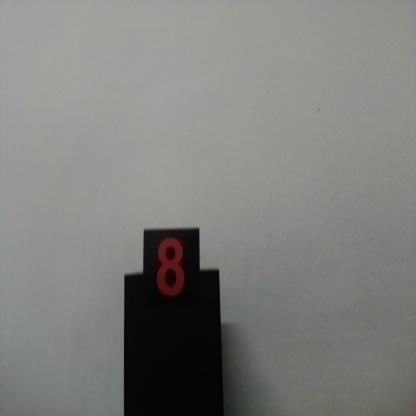id_8: (143, 229, 200, 322)
